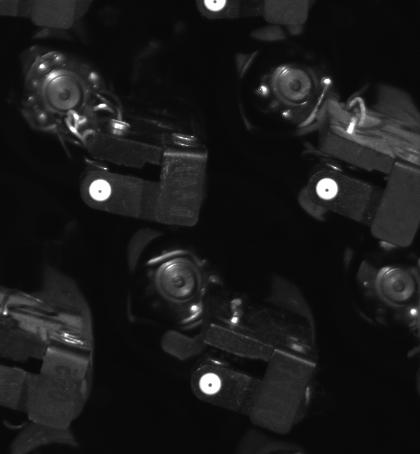fiber: (194, 368, 228, 399), (86, 176, 115, 207), (312, 175, 344, 203), (199, 1, 233, 18)
